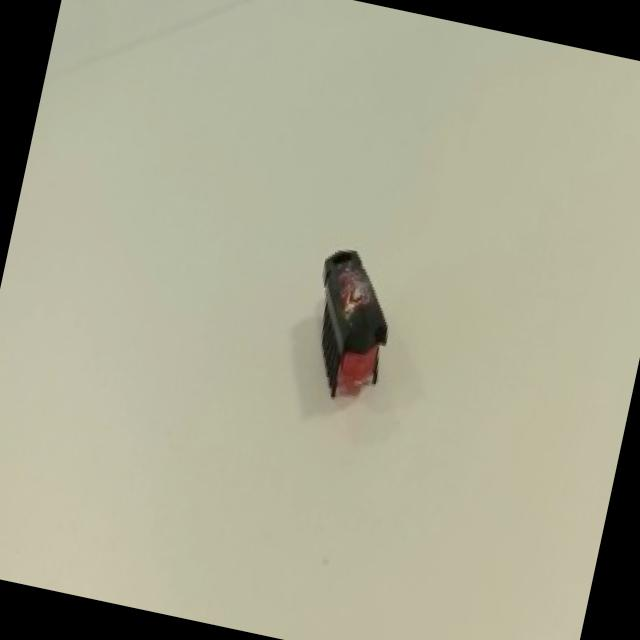2_NanoBug_Negro: (262, 220, 420, 427)
